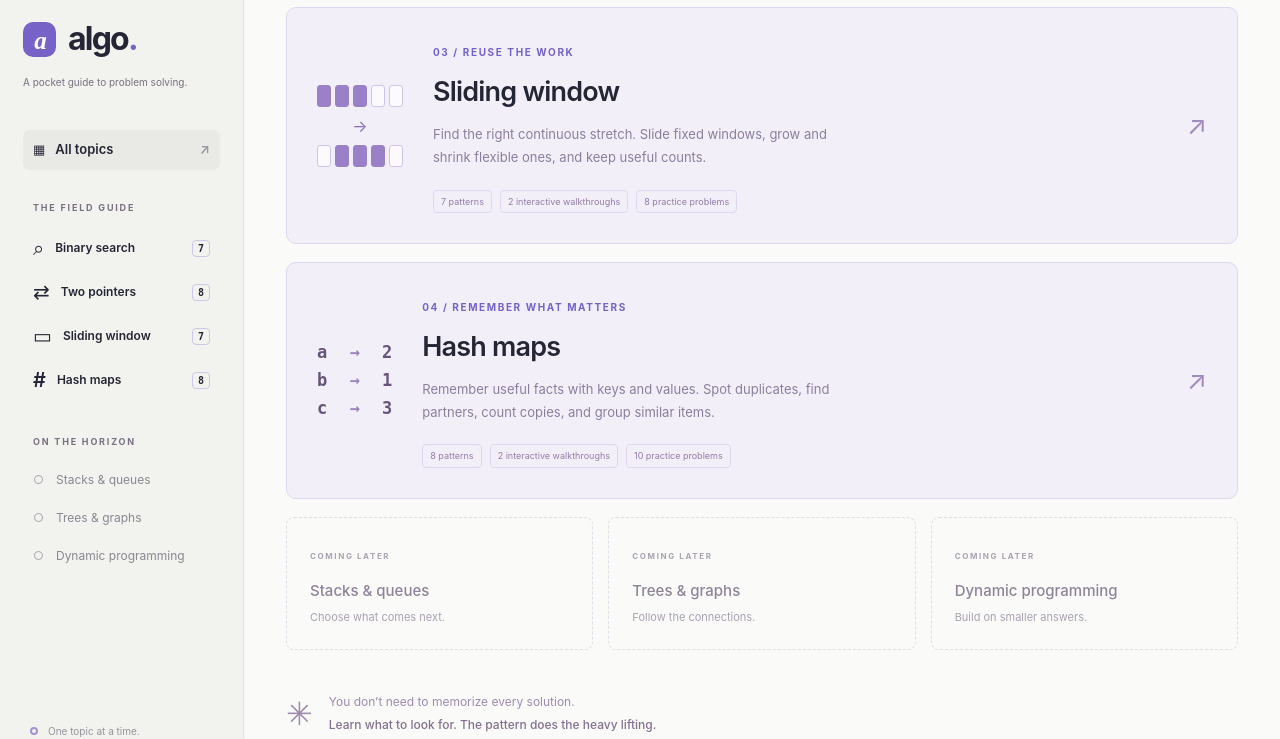
Scenario: hash maps lesson › opens from home, selects the sidebar link, and preserves earlier topics
(page scrolled)
Click the link "04 / Remember what matters".
click(762, 380)  # box [286,262,1238,499]
(page scrolled)
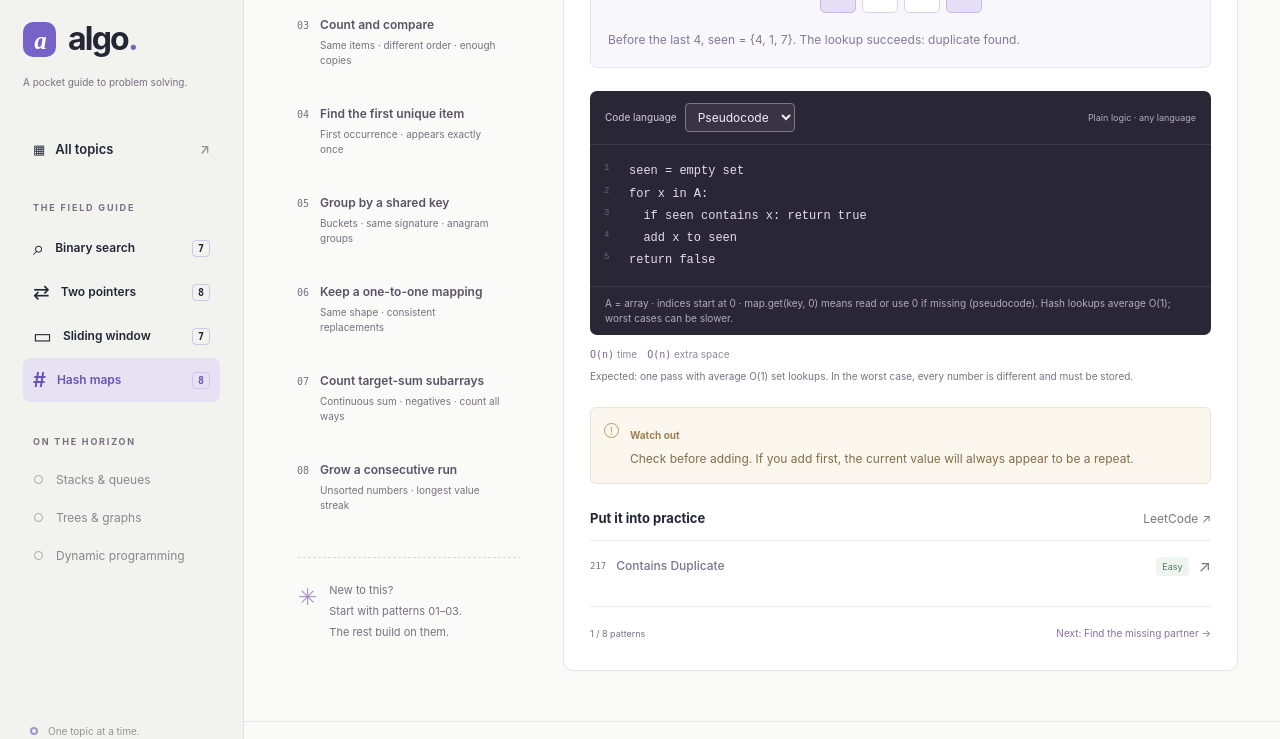
Expected: the link with aria-label "Hash maps, 8 patterns" is marked as current, [23,358,220,402]
Click the link with aria-label "Sliding window, 7 patterns".
click(122, 336)  # box [33,324,210,348]
(page scrolled)
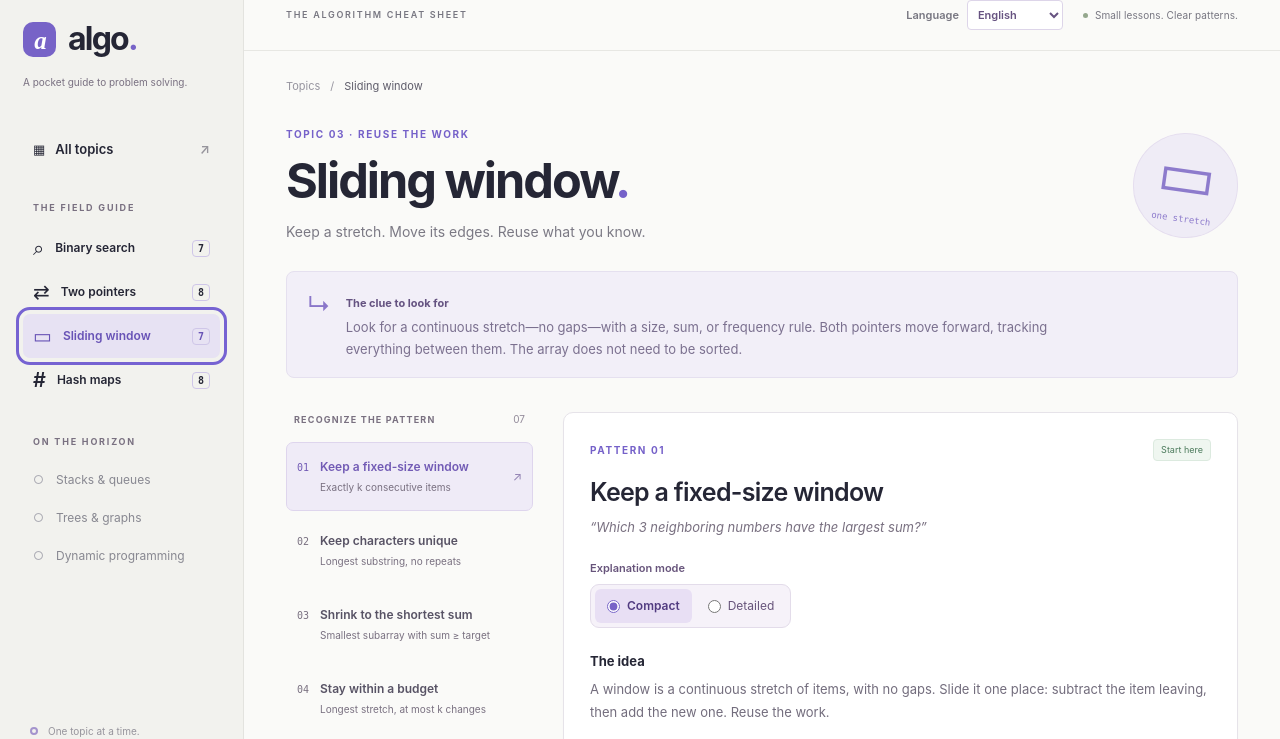
Expected: the heading "Sliding window." is shown, [286,152,645,208]
